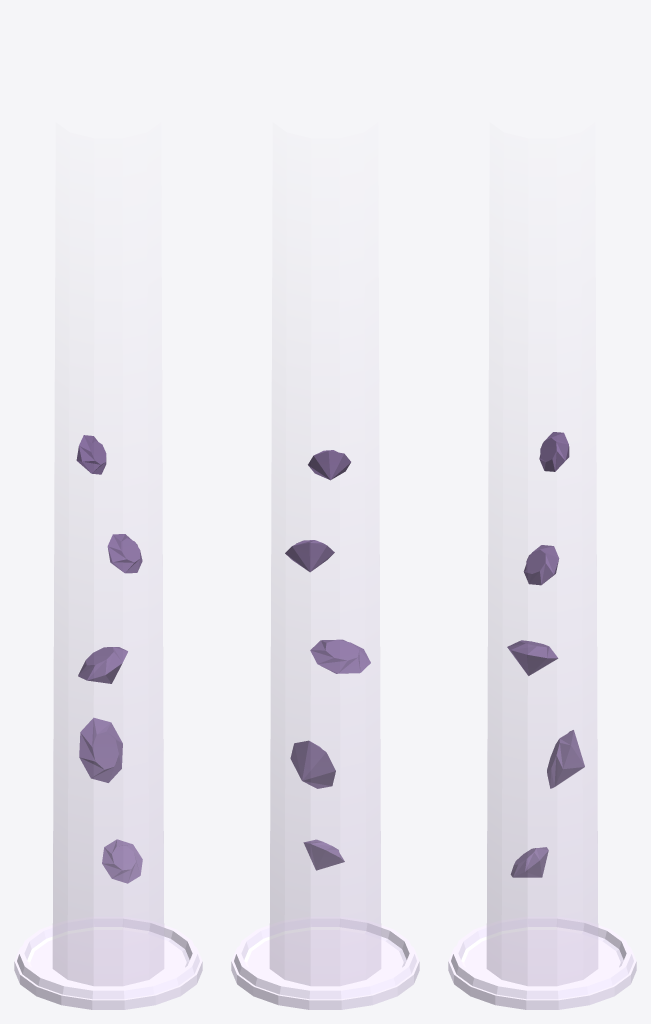
Rendered from loot-drop-beam-c19e42.glb.
The picture shows the model from 3 angles, left to right: view 1: azimuth 30°, elevation 25°; view 2: azimuth 150°, elevation 25°; view 3: azimuth 270°, elevation 25°; orthographic projection.
Visible parts, largest first — view 1: beam, gems; view 2: beam, gems; view 3: beam, gems.
Part boxes in pixels (bbox=[...]): beam: bbox=[14, 393, 202, 1009]; gems: bbox=[76, 435, 142, 883]; beam: bbox=[231, 393, 419, 1009]; gems: bbox=[285, 450, 370, 870]; beam: bbox=[448, 393, 636, 1009]; gems: bbox=[507, 432, 584, 877].
Bounding box in the file's own units: 0.4491 × 2.5 × 0.456.
